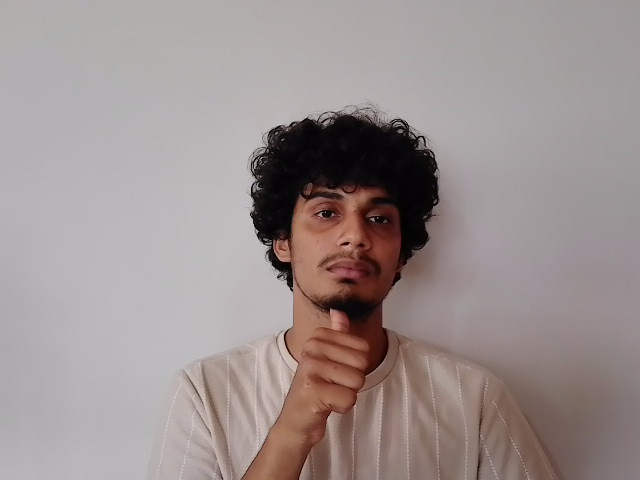not: (277, 280, 416, 412)
